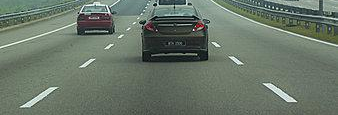car: (138, 4, 212, 63), (151, 1, 193, 42), (74, 1, 118, 35)
